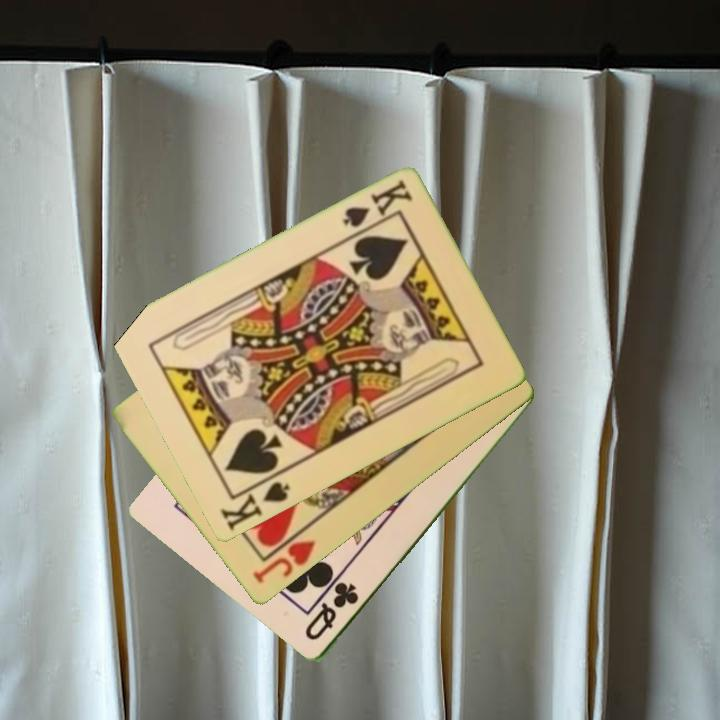Jh: (249, 523, 318, 587)
Ks: (216, 468, 293, 534), (339, 176, 416, 231)
Qc: (301, 578, 362, 645)
